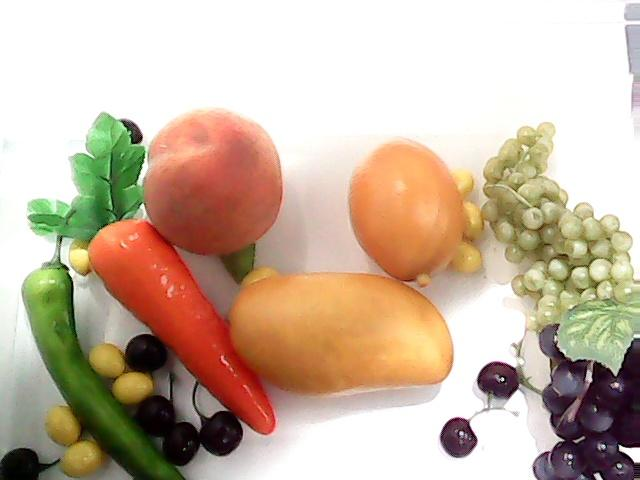carrot: (25, 114, 276, 437)
grape: (480, 116, 640, 332), (528, 303, 640, 479)
lemon: (346, 130, 468, 290)
mango: (230, 272, 454, 398)
peach: (141, 110, 283, 254)
pepper: (20, 219, 188, 480)
